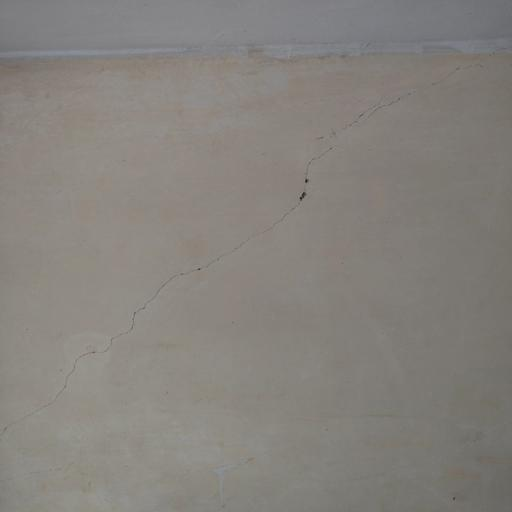minor_crack: (0, 49, 512, 442)
